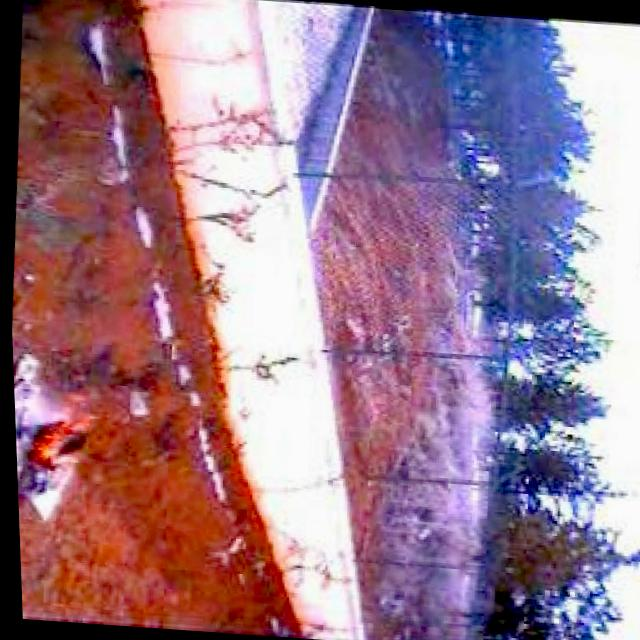Fire: (11, 383, 104, 497)
